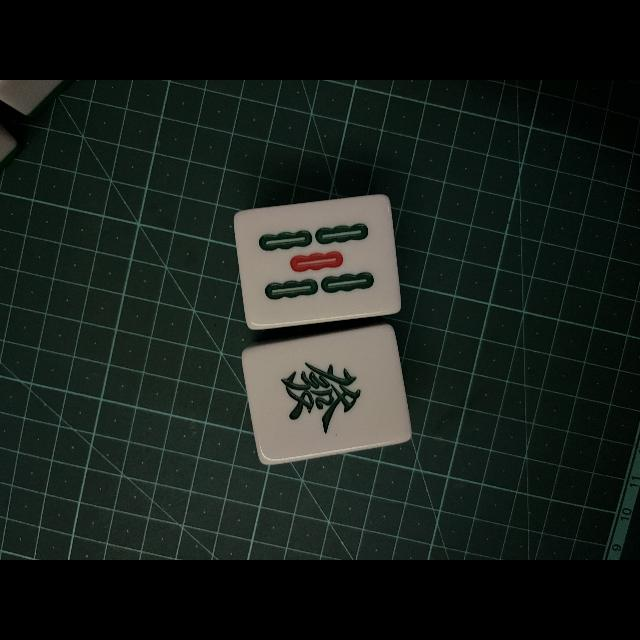b5: (242, 202, 394, 318)
dg: (254, 338, 401, 448)
